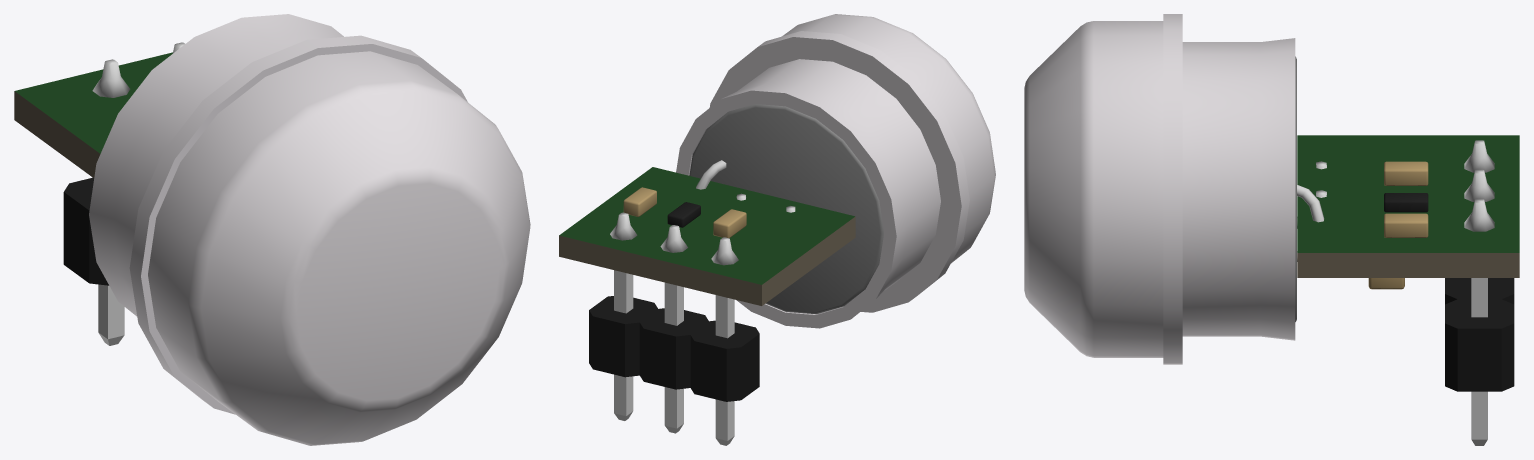
The model's file is small-pir-sensor.fbx.
3 views of the same model, side by side, from view 1: azimuth 30°, elevation 25°; view 2: azimuth 150°, elevation 25°; view 3: azimuth 270°, elevation 25° (orthographic). The views are drawn at different scales.
Parts seen in each view (by area): view 1: Circle.001, board, Cube.001, Cube; view 2: Circle.001, board, Circle, Cube.001, Cube, capacitor.002, capacitor, resistor, sensor leads; view 3: Circle.001, board, Cube.001, Cube, capacitor.002, capacitor, resistor, sensor leads, Circle.
Part boxes in pixels (x1,y1,x2,y2): Circle.001: (89, 14, 530, 445); board: (14, 52, 172, 178); Cube.001: (63, 177, 108, 285); Cube: (92, 42, 184, 345); Circle.001: (676, 14, 995, 328); board: (559, 167, 855, 305); Circle: (689, 104, 883, 314); Cube.001: (589, 296, 759, 401); Cube: (610, 212, 738, 445); capacitor.002: (623, 187, 656, 216); capacitor: (713, 209, 746, 238); resistor: (667, 202, 700, 227); sensor leads: (696, 160, 795, 212); Circle.001: (1024, 14, 1295, 364); board: (1297, 135, 1519, 277); Cube.001: (1445, 278, 1514, 391); Cube: (1464, 140, 1494, 445); capacitor.002: (1384, 213, 1428, 237); capacitor: (1384, 161, 1428, 185); resistor: (1384, 193, 1428, 212); sensor leads: (1297, 161, 1326, 261); Circle: (1295, 56, 1296, 321).
Size of the model in its own units: 1.29 by 1.45 by 1.78.
